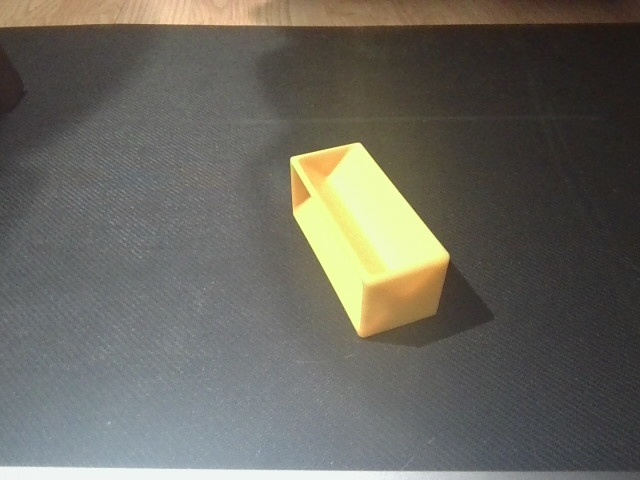YellowSample: (281, 138, 456, 341)
